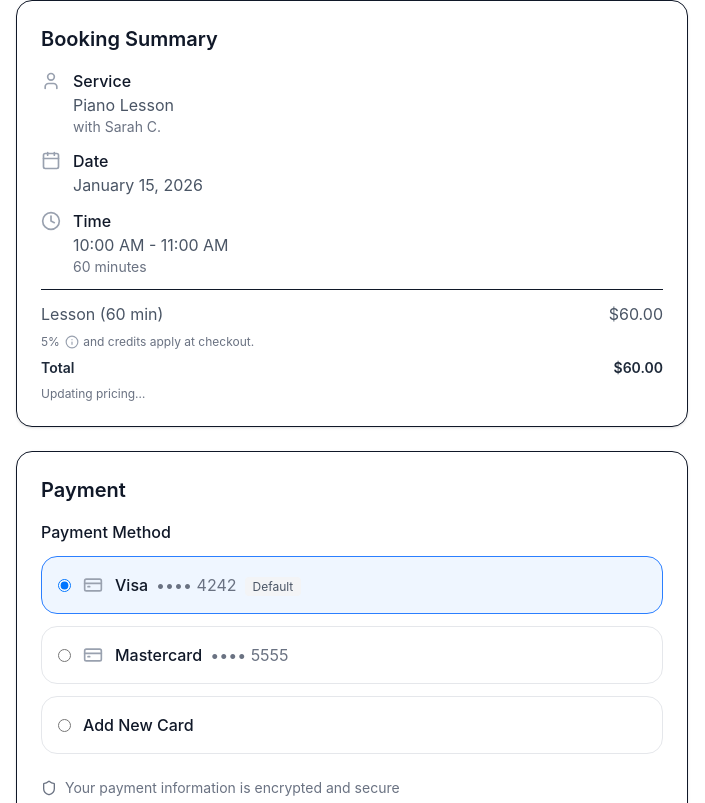
CheckoutFlow › New card PaymentIntent creation error paths › shows generic message when non-Error is thrown during intent creation
Step 1. Click the text "Add New Card" → (138, 725), box [83,715,194,735]
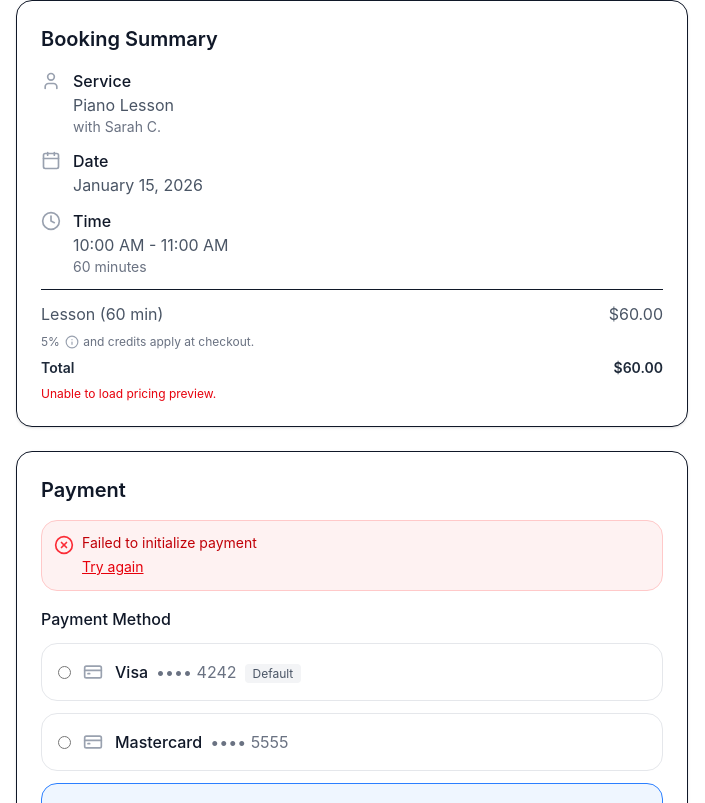
Expected: the text "Failed to initialize payment" is shown, [82,534,257,551]
